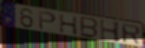6: (19, 8, 35, 29)
B: (79, 15, 99, 40)
H: (99, 18, 121, 44), (58, 14, 79, 36)
P: (38, 10, 58, 32)
R: (120, 22, 141, 45)
